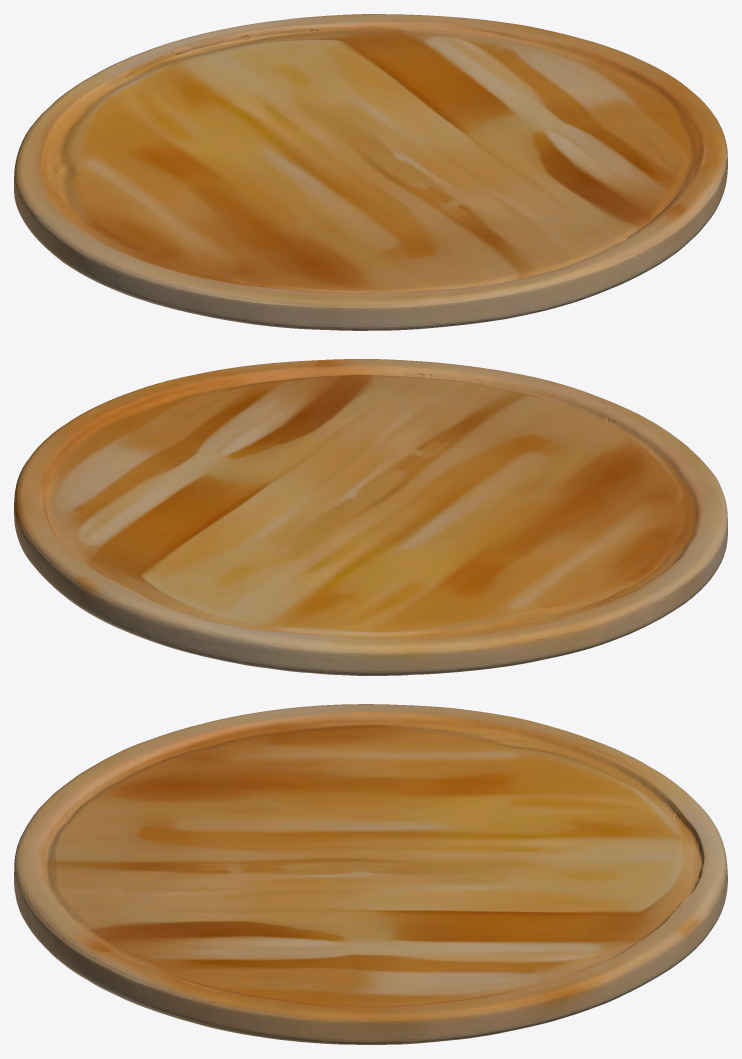
3 renders of one model, top to bottom at view 1: azimuth 30°, elevation 25°; view 2: azimuth 150°, elevation 25°; view 3: azimuth 270°, elevation 25°, orthographic. The views are drawn at different scales.
Parts seen in each view (by area): view 1: cutting_board.obj; view 2: cutting_board.obj; view 3: cutting_board.obj.
Boxes of the visible parts, x1,y1,x2,y2 form: cutting_board.obj: (14,14,727,330); cutting_board.obj: (14,359,727,675); cutting_board.obj: (14,704,727,1044).
Bounding box in the file's own units: 0.4 × 0.0193 × 0.3812.
Materials: 1 (1 with a texture image).
